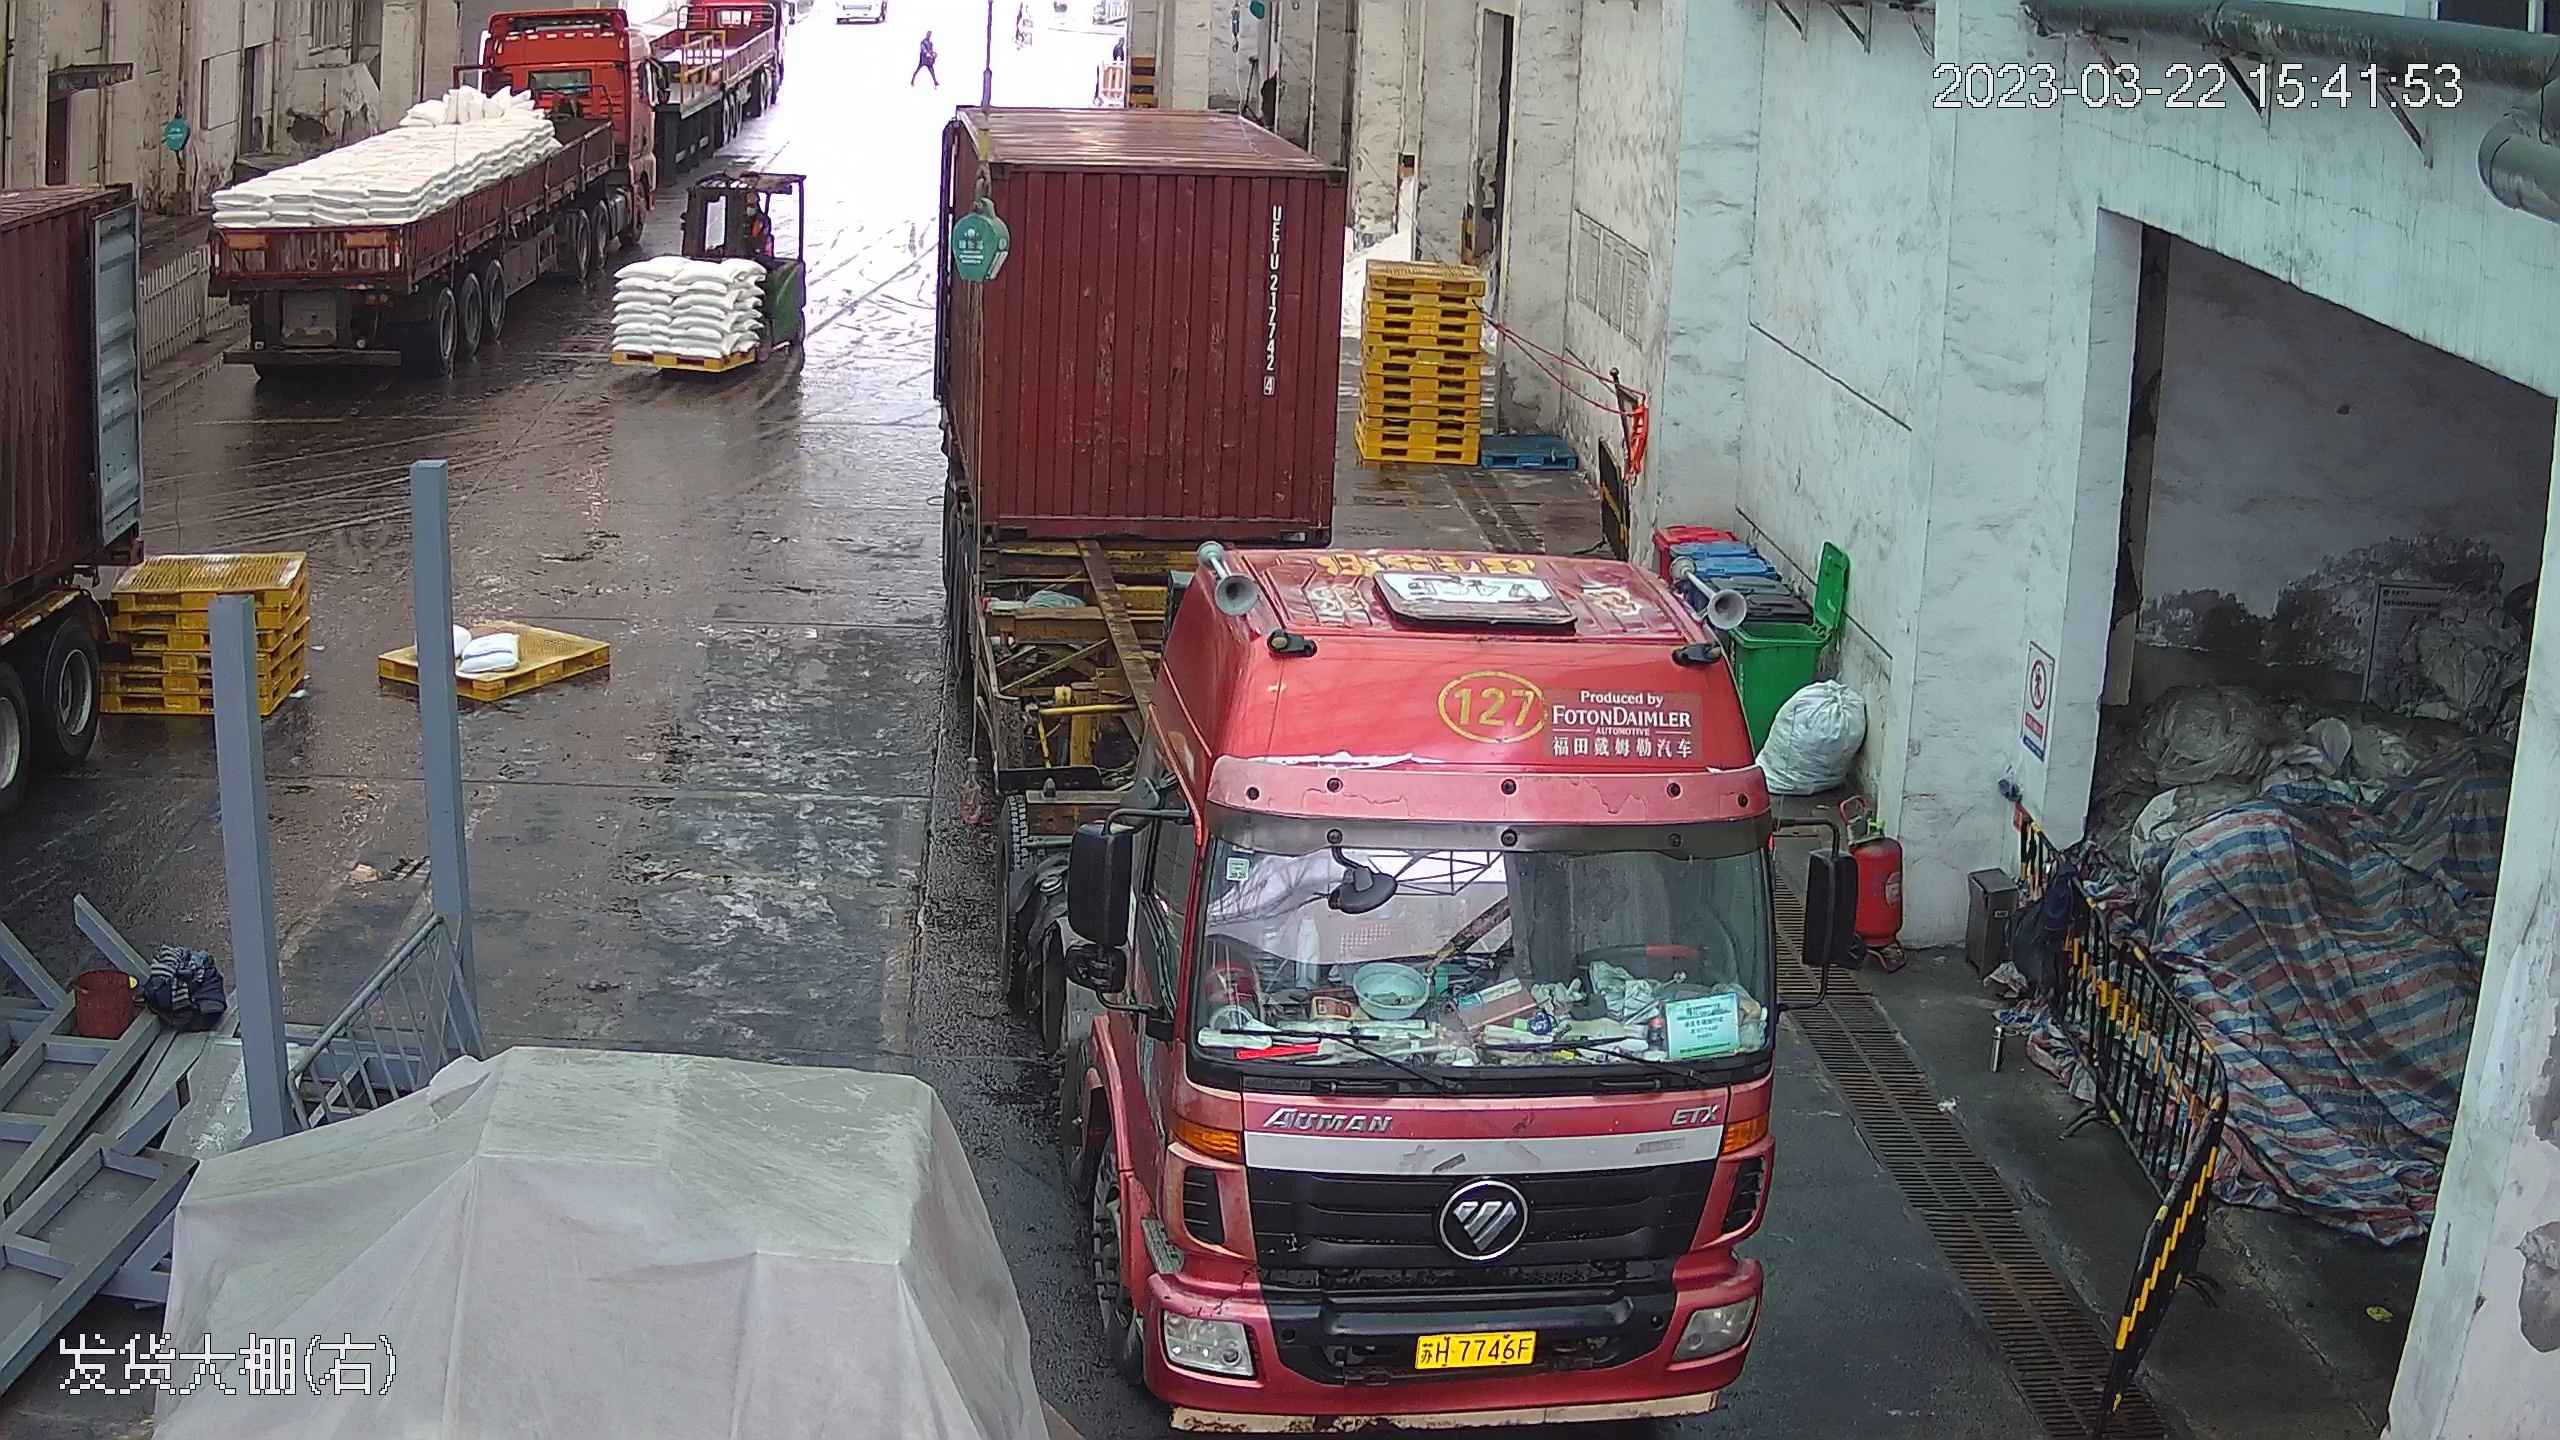people: (911, 21, 943, 93)
truck: (920, 28, 1802, 1436), (184, 7, 704, 381)
